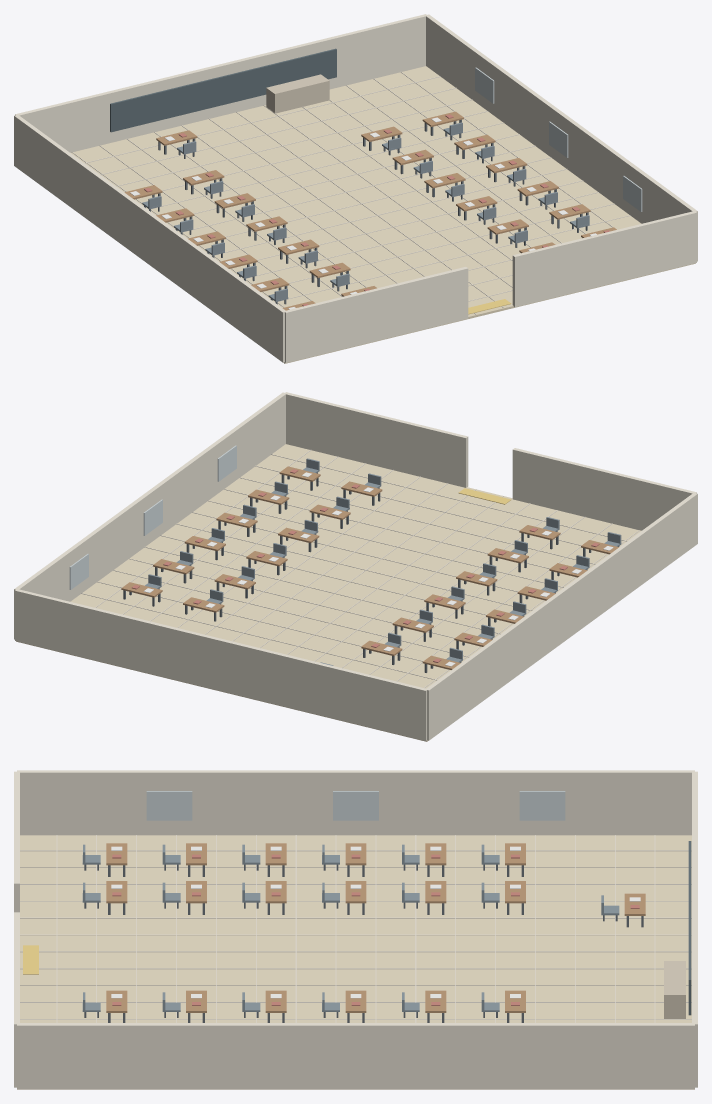
The model's file is lecture.glb.
3 renders of one model, top to bottom at view 1: azimuth 30°, elevation 25°; view 2: azimuth 150°, elevation 25°; view 3: azimuth 270°, elevation 25°, orthographic. The views are drawn at different scales.
Parts seen in each view (by area): view 1: room_lecture__D8C397, room_lecture__E8DDC2, room_lecture__E6DCC6, room_lecture__8D5A34, room_lecture__243036, room_lecture__4A5A66, room_lecture__2B3238, room_lecture__B9A78A, room_lecture__B4C7CD, room_lecture__FBFBF7, room_lecture__A4473C; view 2: room_lecture__E8DDC2, room_lecture__D8C397, room_lecture__E6DCC6, room_lecture__8D5A34, room_lecture__4A5A66, room_lecture__2B3238, room_lecture__B4C7CD, room_lecture__FBFBF7, room_lecture__A4473C; view 3: room_lecture__D8C397, room_lecture__E8DDC2, room_lecture__E6DCC6, room_lecture__8D5A34, room_lecture__4A5A66, room_lecture__B4C7CD, room_lecture__2B3238, room_lecture__B9A78A, room_lecture__FBFBF7, room_lecture__A4473C, room_lecture__243036.
Part boxes in pixels (x1,y1,x2,y2): room_lecture__D8C397: (70, 66, 695, 363); room_lecture__E8DDC2: (14, 14, 697, 362); room_lecture__E6DCC6: (71, 72, 630, 314); room_lecture__8D5A34: (124, 111, 616, 310); room_lecture__243036: (110, 48, 336, 132); room_lecture__4A5A66: (142, 122, 589, 301); room_lecture__2B3238: (144, 119, 588, 304); room_lecture__B9A78A: (266, 74, 329, 113); room_lecture__B4C7CD: (475, 67, 642, 211); room_lecture__FBFBF7: (130, 117, 596, 309); room_lecture__A4473C: (144, 114, 609, 306); room_lecture__E8DDC2: (14, 392, 697, 740); room_lecture__D8C397: (16, 444, 641, 741); room_lecture__E6DCC6: (81, 450, 640, 688); room_lecture__8D5A34: (121, 466, 618, 669); room_lecture__4A5A66: (145, 458, 621, 665); room_lecture__2B3238: (123, 472, 619, 672); room_lecture__B4C7CD: (69, 445, 236, 589); room_lecture__FBFBF7: (143, 472, 613, 666); room_lecture__A4473C: (131, 469, 599, 662); room_lecture__D8C397: (17, 835, 694, 1089); room_lecture__E8DDC2: (14, 770, 697, 1088); room_lecture__E6DCC6: (20, 835, 691, 1022); room_lecture__8D5A34: (106, 843, 645, 1012); room_lecture__4A5A66: (82, 844, 619, 1011); room_lecture__B4C7CD: (146, 791, 565, 820); room_lecture__2B3238: (84, 864, 643, 1022); room_lecture__B9A78A: (664, 961, 685, 1018); room_lecture__FBFBF7: (111, 846, 640, 998); room_lecture__A4473C: (112, 854, 639, 1005); room_lecture__243036: (688, 841, 691, 1015).
Size of the model in its own units: 30.3 by 3.62 by 34.3.
